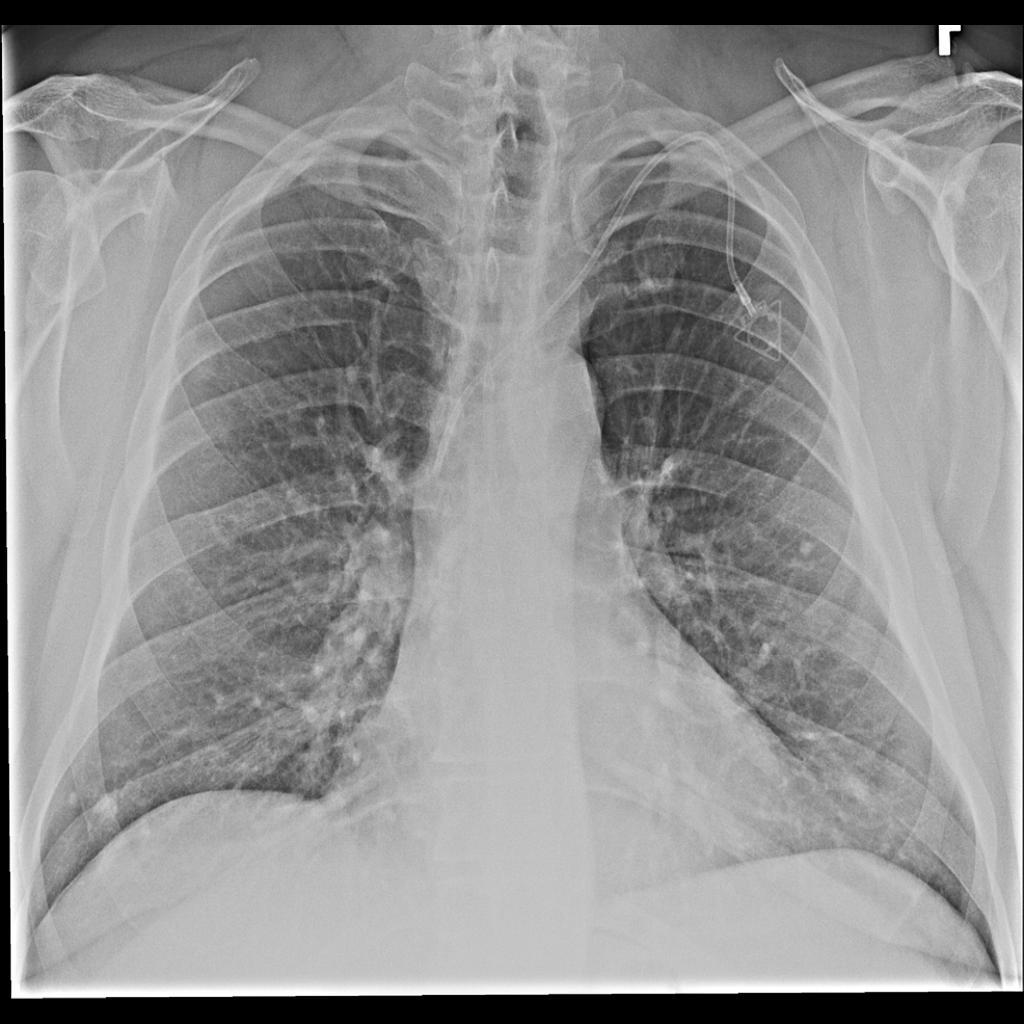Nodule: (89, 792, 121, 827)
